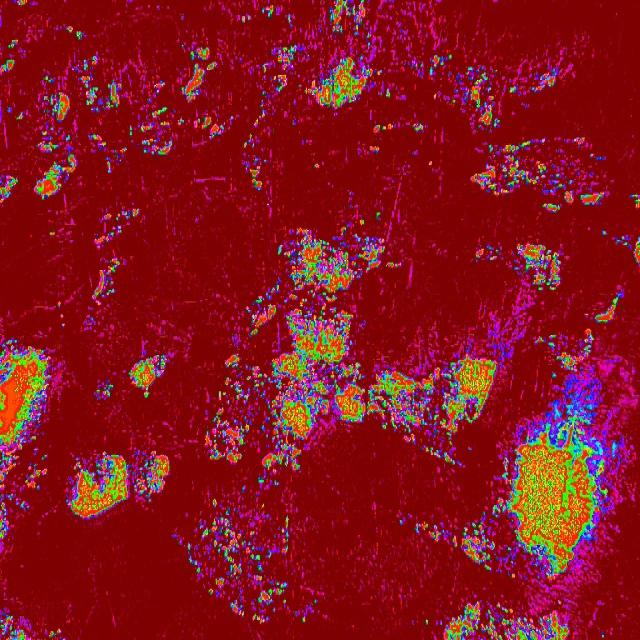fire: (202, 222, 406, 492), (502, 330, 622, 584), (178, 493, 292, 628), (0, 335, 57, 547), (404, 349, 498, 470), (470, 137, 608, 212), (66, 444, 174, 520), (33, 69, 78, 203), (300, 41, 384, 110), (442, 601, 574, 640), (447, 60, 502, 134), (459, 496, 502, 573), (256, 42, 298, 118), (137, 78, 174, 160), (510, 244, 563, 292), (80, 54, 122, 114), (128, 350, 172, 399), (180, 48, 218, 102), (94, 204, 140, 247), (326, 0, 372, 41), (412, 518, 458, 548), (92, 257, 122, 302), (591, 290, 626, 326), (0, 609, 32, 640), (195, 110, 226, 142), (530, 67, 560, 95), (246, 154, 268, 192), (615, 234, 640, 267), (0, 172, 21, 206), (107, 148, 132, 176), (475, 244, 504, 264), (93, 379, 116, 403), (429, 51, 446, 73), (404, 58, 424, 76), (66, 22, 84, 42), (88, 132, 105, 150), (56, 300, 66, 329), (256, 4, 274, 20), (240, 131, 255, 150), (0, 58, 14, 77), (294, 609, 309, 625), (374, 121, 394, 133), (47, 629, 68, 640), (411, 119, 426, 133), (629, 192, 640, 210), (170, 528, 179, 546), (12, 0, 32, 8), (368, 141, 381, 153), (252, 116, 263, 130), (384, 88, 394, 103), (8, 36, 18, 50), (16, 110, 25, 125), (507, 84, 520, 94), (310, 597, 321, 607), (374, 209, 384, 220), (397, 518, 406, 528), (6, 105, 14, 116), (129, 124, 134, 140), (48, 228, 56, 238), (424, 618, 432, 627), (314, 161, 322, 170), (599, 632, 608, 640), (601, 228, 608, 238), (178, 117, 185, 127), (448, 52, 455, 59)
